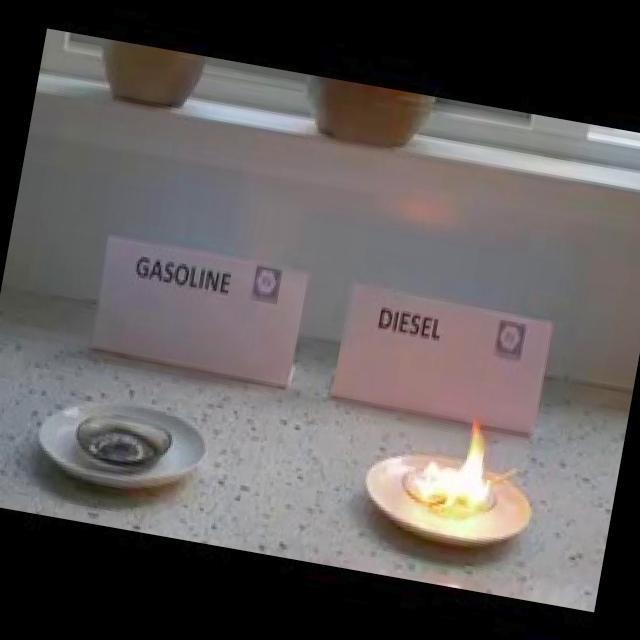fire: (410, 370, 509, 519)
